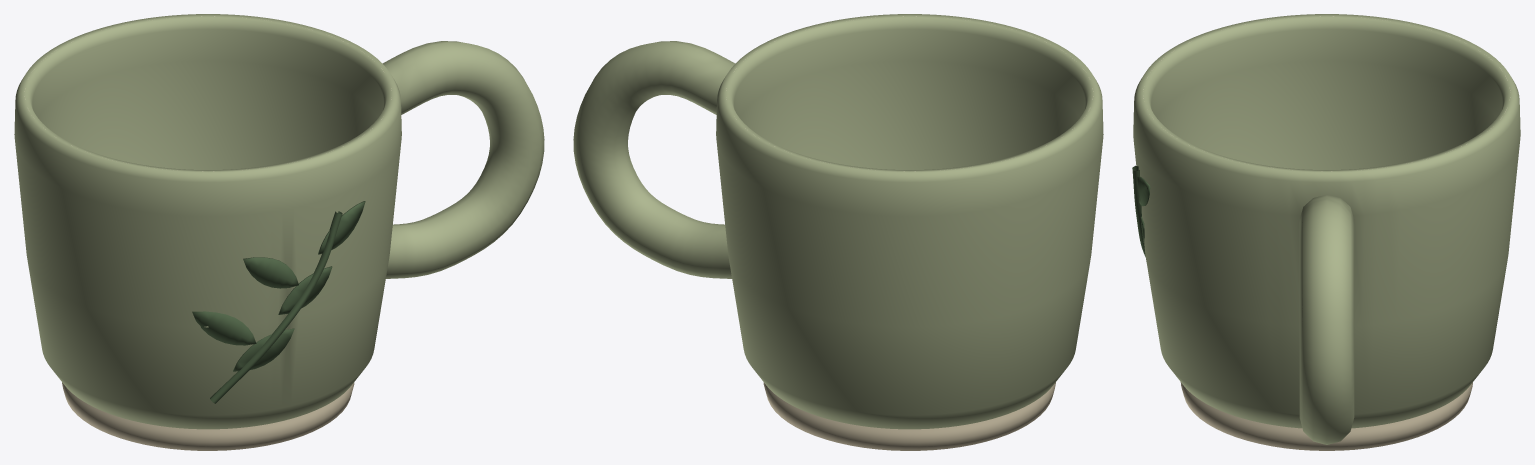
Rendered from cup.glb.
3 views of the same model, side by side, from view 1: azimuth 30°, elevation 25°; view 2: azimuth 150°, elevation 25°; view 3: azimuth 270°, elevation 25° (orthographic).
Parts seen in each view (by area): view 1: Atelier_Cup; view 2: Atelier_Cup; view 3: Atelier_Cup.
Boxes of the visible parts, x1=… form: Atelier_Cup: x1=14, y1=14, x2=544, y2=450; Atelier_Cup: x1=573, y1=14, x2=1103, y2=450; Atelier_Cup: x1=1132, y1=14, x2=1520, y2=450.
Size of the model in its own units: 0.6353 by 0.36 by 0.427.
